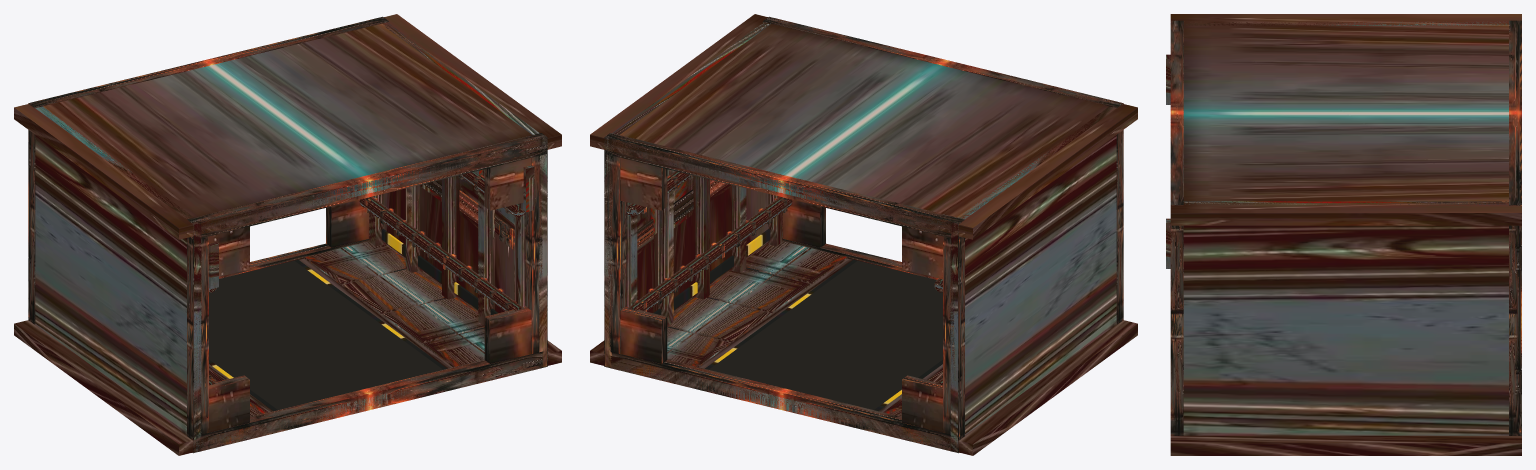
Rendered from hangar_koridor_demirhan.glb.
3 views of the same model, side by side, from view 1: azimuth 30°, elevation 25°; view 2: azimuth 150°, elevation 25°; view 3: azimuth 270°, elevation 25° (orthographic). The views are drawn at different scales.
Visible parts, largest first — view 1: LOD0_koridor; view 2: LOD0_koridor; view 3: LOD0_koridor.
Boxes of the visible parts, x1,y1,x2,y2 form: LOD0_koridor: (14, 14, 561, 455); LOD0_koridor: (590, 14, 1137, 455); LOD0_koridor: (1166, 14, 1521, 455).
Bounding box in the file's own units: 10.2 × 5.84 × 7.7.
1 material, 1 textured.
